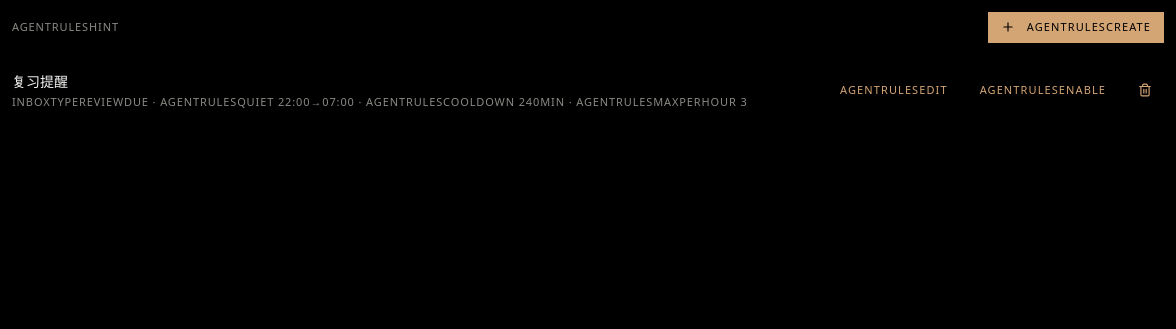
Test: AgentRulesPanel › 创建失败展示错误与重试
Expected: the text "复习提醒" is shown, [12, 72, 68, 90]
Click the button "agentRulesCreate" at [1076, 27], box [988, 12, 1164, 42]
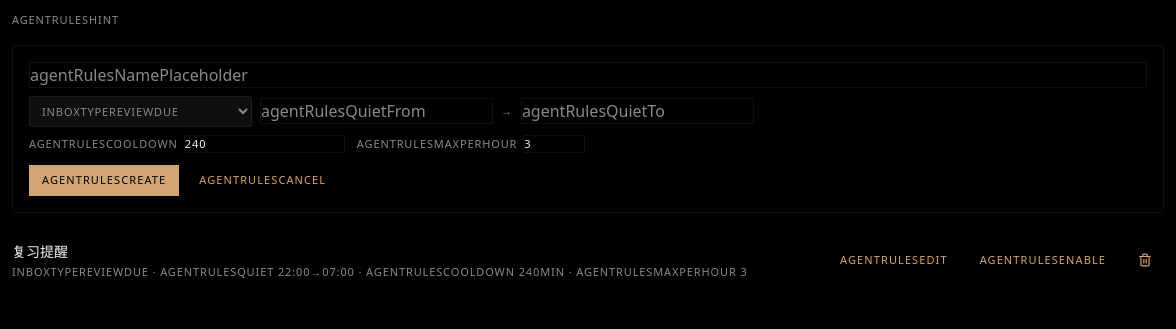
Type "坏规则" into the field labelled "agentRulesNamePlaceholder" at [588, 74], box [29, 62, 1147, 88]
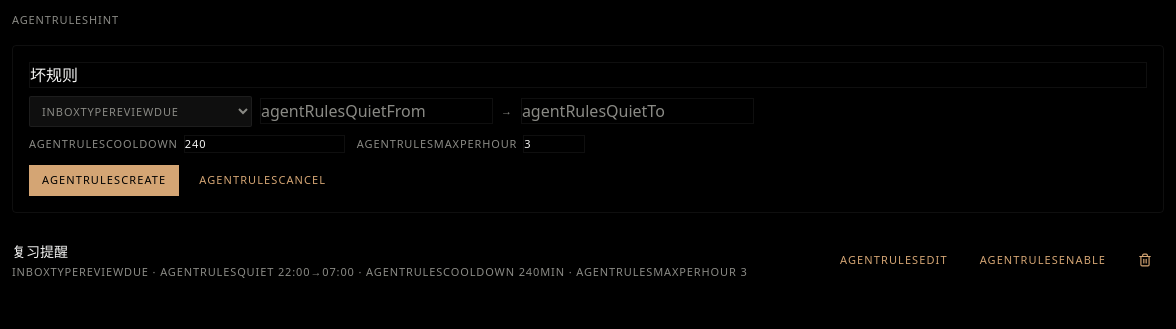
Click the button "agentRulesCreate" at [104, 180], box [29, 165, 179, 196]
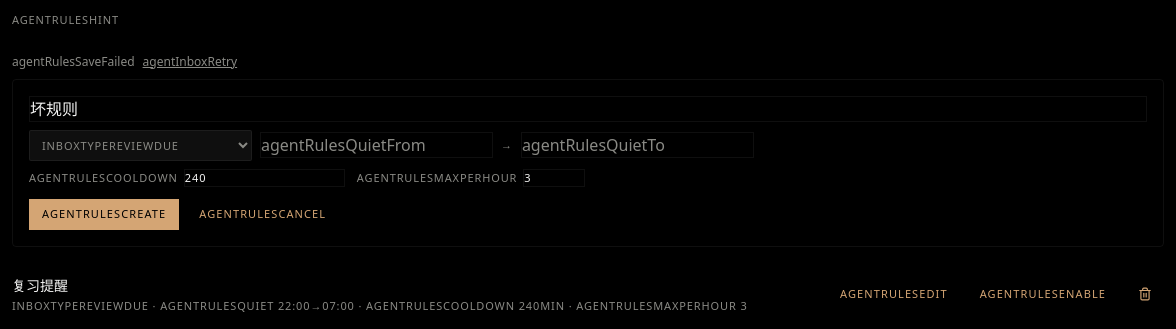
Expected: the message "agentRulesSaveFailed agentInboxRetry" is shown, [12, 52, 237, 70]
Expected: the text "agentRulesSaveFailed" is shown, [12, 52, 135, 70]
